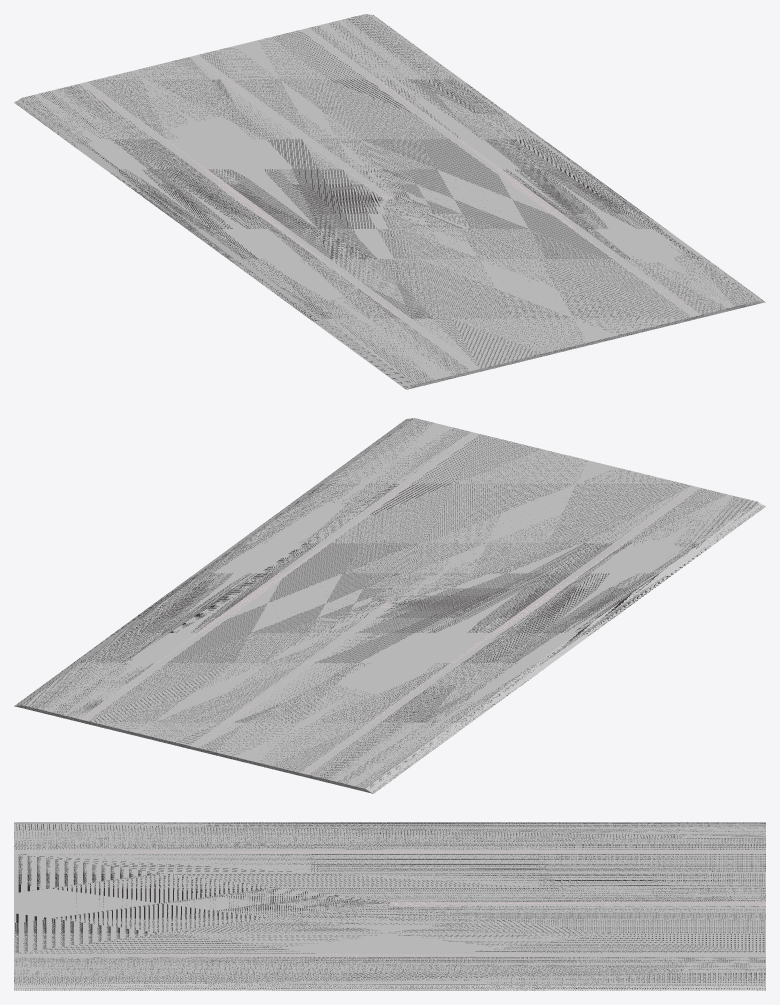
Rendered from strasse.obj.
3 renders of one model, top to bottom at view 1: azimuth 30°, elevation 25°; view 2: azimuth 150°, elevation 25°; view 3: azimuth 270°, elevation 25°, orthographic. The views are drawn at different scales.
Parts seen in each view (by area): view 1: instance_0_ID4, instance_0.003_ID40, instance_0.002_ID32, instance_0.001_ID19; view 2: instance_0_ID4, instance_0.003_ID40, instance_0.002_ID32, instance_0.001_ID19; view 3: instance_0_ID4, instance_0.003_ID40, instance_0.002_ID32, instance_0.001_ID19.
Part boxes in pixels (x1=…): instance_0_ID4: x1=14, y1=14, x2=765, y2=389; instance_0.003_ID40: x1=300, y1=28, x2=700, y2=316; instance_0.002_ID32: x1=79, y1=82, x2=479, y2=370; instance_0.001_ID19: x1=190, y1=55, x2=393, y2=200; instance_0_ID4: x1=14, y1=418, x2=765, y2=793; instance_0.003_ID40: x1=79, y1=432, x2=479, y2=720; instance_0.002_ID32: x1=300, y1=486, x2=700, y2=774; instance_0.001_ID19: x1=190, y1=602, x2=393, y2=747; instance_0_ID4: x1=14, y1=822, x2=765, y2=990; instance_0.003_ID40: x1=14, y1=953, x2=765, y2=957; instance_0.002_ID32: x1=14, y1=850, x2=765, y2=853; instance_0.001_ID19: x1=390, y1=901, x2=765, y2=905.
Bounding box in the file's own units: 6.35 × 0.05 × 12.
